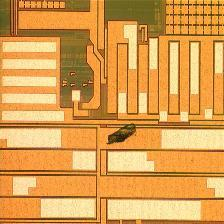PARTICLE: (105, 121, 142, 147)
